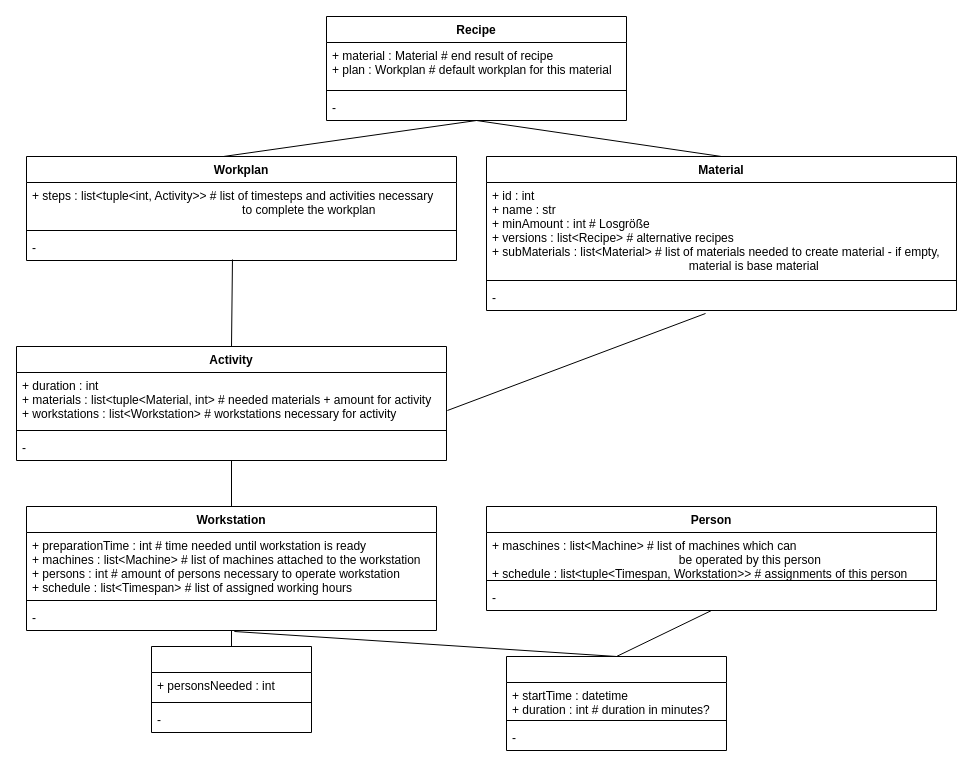
Image size: 973x767. Some labels were removed from this diagram. Here are the shapes that lost their labels. From the top down, the box of each, then its label:
(150, 646, 312, 732): Machine
(506, 656, 726, 750): Timespan
